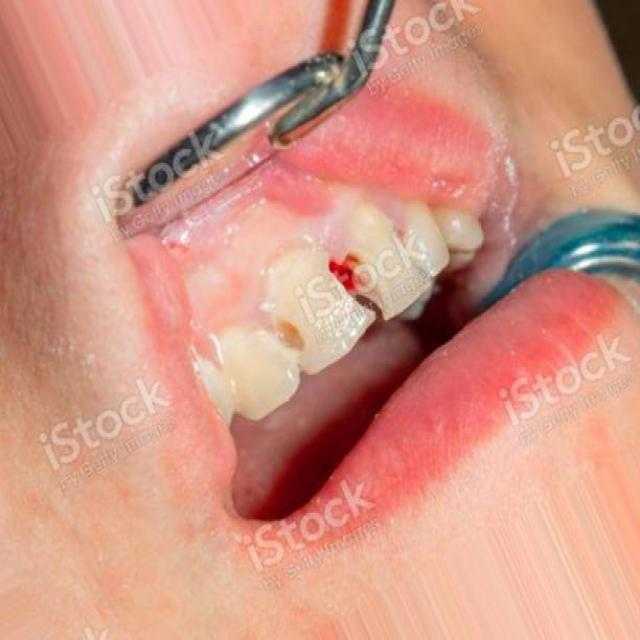caries: (323, 236, 382, 313), (258, 302, 311, 375)
